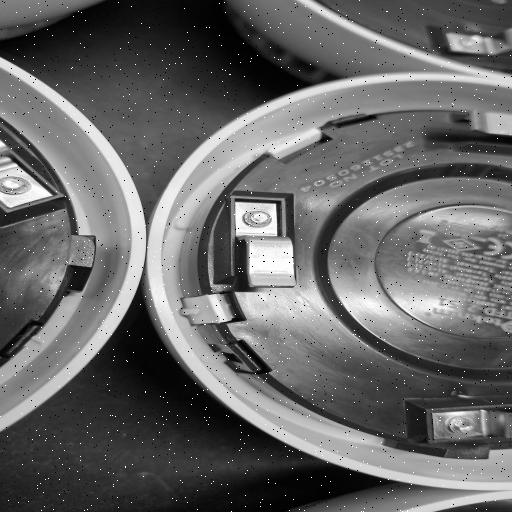yaysiz: (216, 194, 308, 318)
